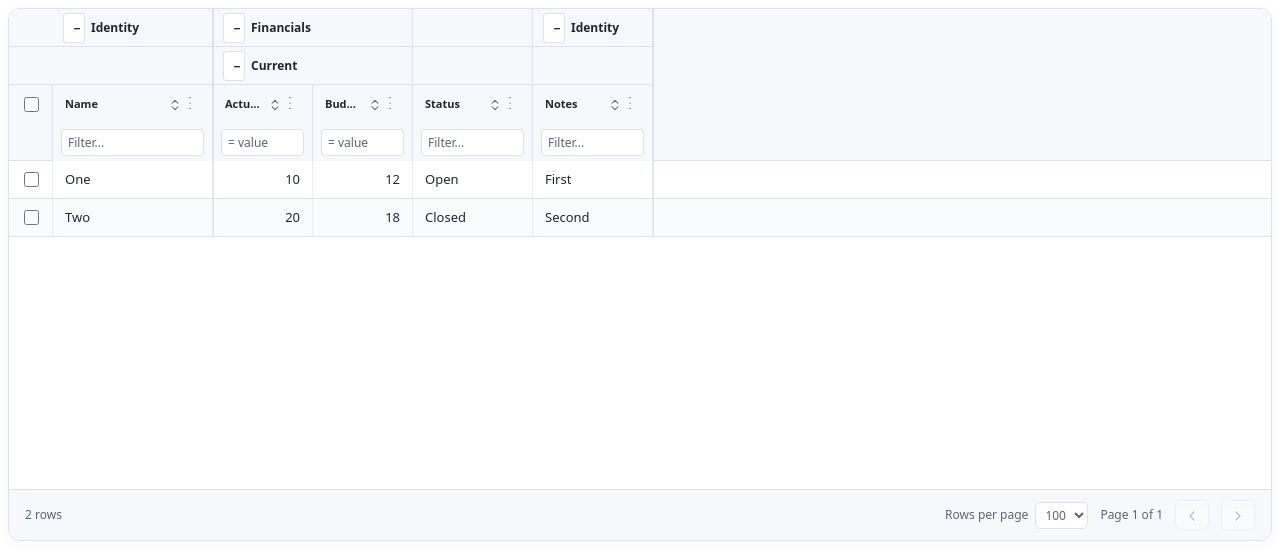
Test: DataGrid column-group integration › collapses and restores child columns without revealing a previously hidden member
This screenshot has width=1280, height=558.
Step 1. Click the button named "Collapse column group Financials" → {"x": 234, "y": 28}, box [223,12,245,42]
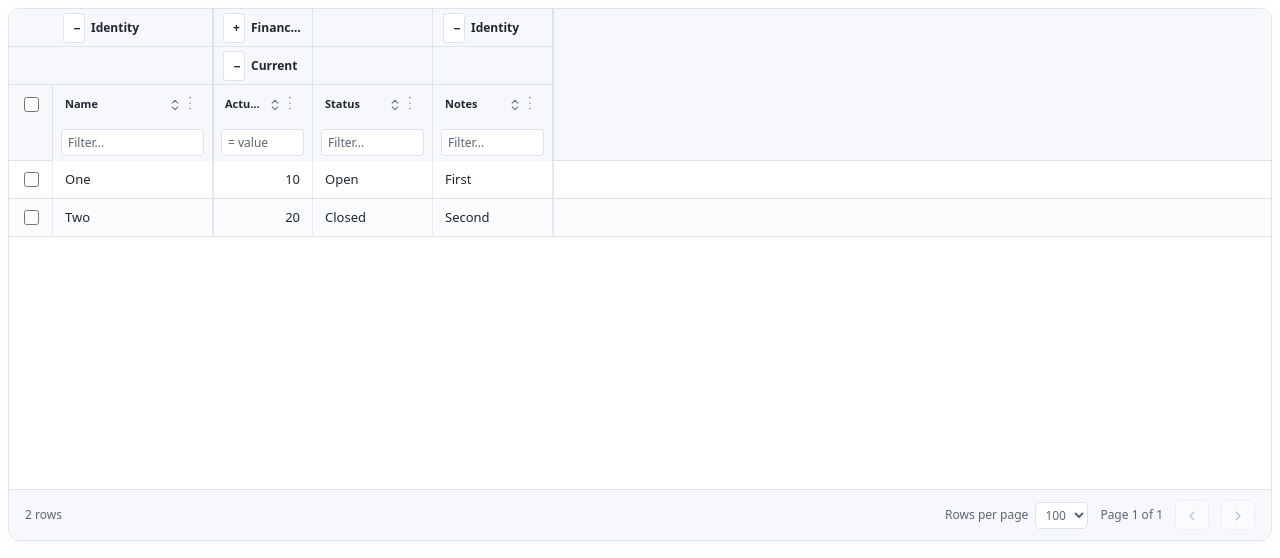
Expected: the button with aria-label "Sort Actual" is shown, [213,85,312,123]
Now the button named "Expand column group Financials" is pressed
Step 2. Click the button named "Expand column group Financials" → {"x": 234, "y": 28}, box [223,12,245,42]
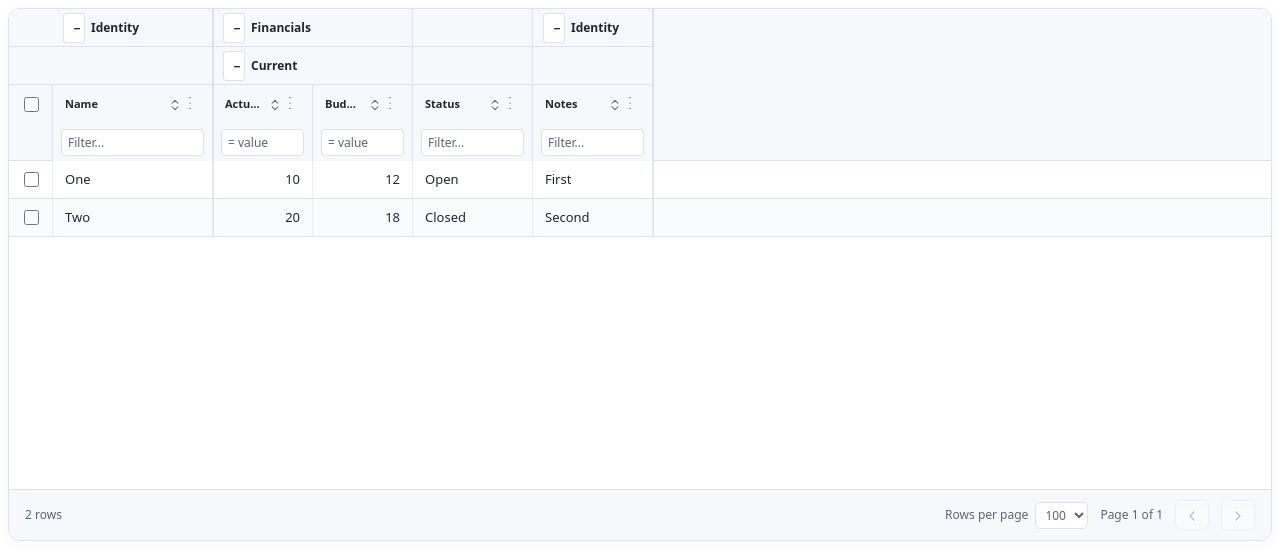
Now the button with aria-label "Sort Budget" is shown, box [313,85,412,123]
